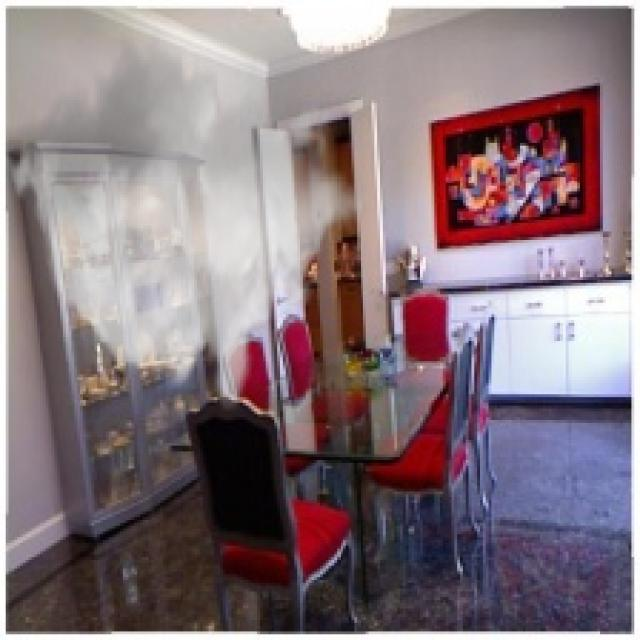smoke: (6, 29, 366, 412)
